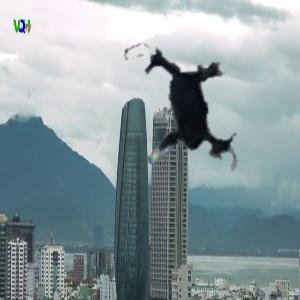drone: (92, 22, 274, 204)
